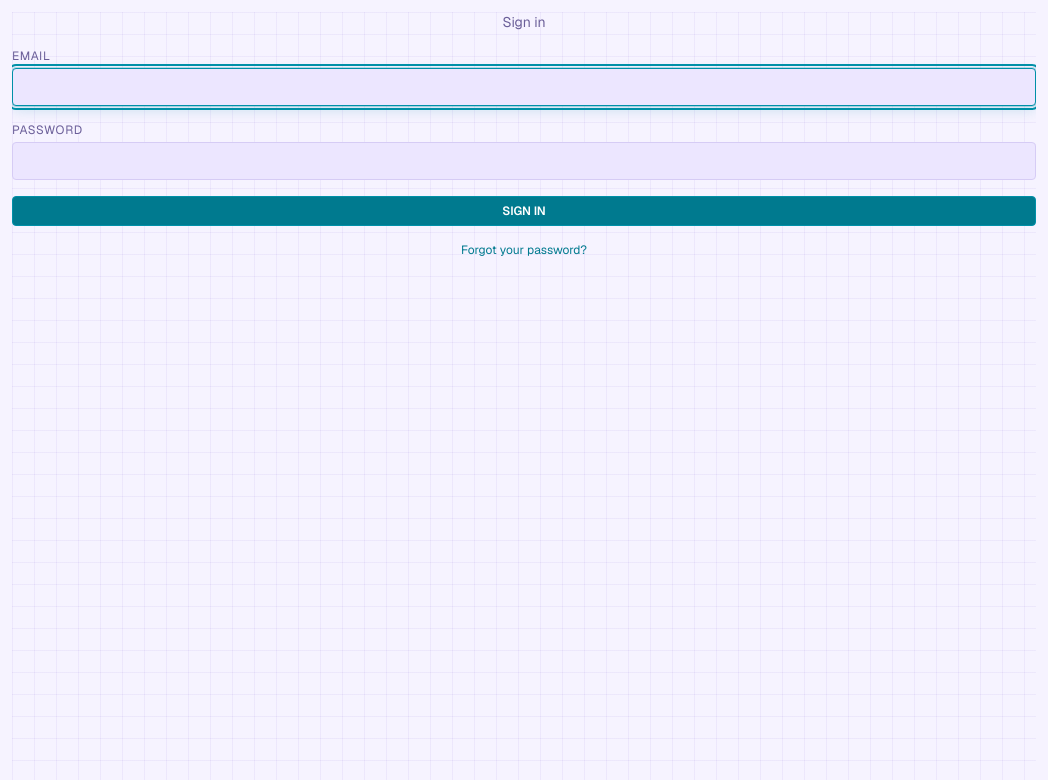
Test: LoginForm › explains wrong credentials
Type "a@x.io" into the field labelled "Email" at (524, 87), box [12, 68, 1036, 106]
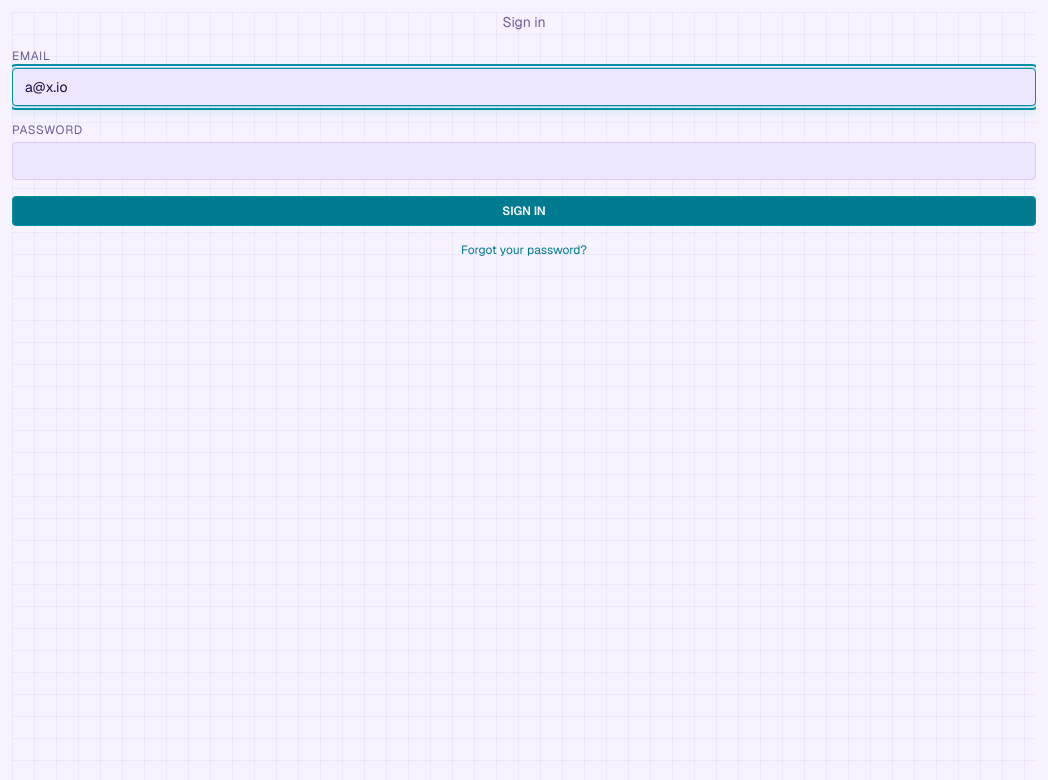
Type "correct-horse-1" into the password field labelled "Password" at (524, 161), box [12, 142, 1036, 180]
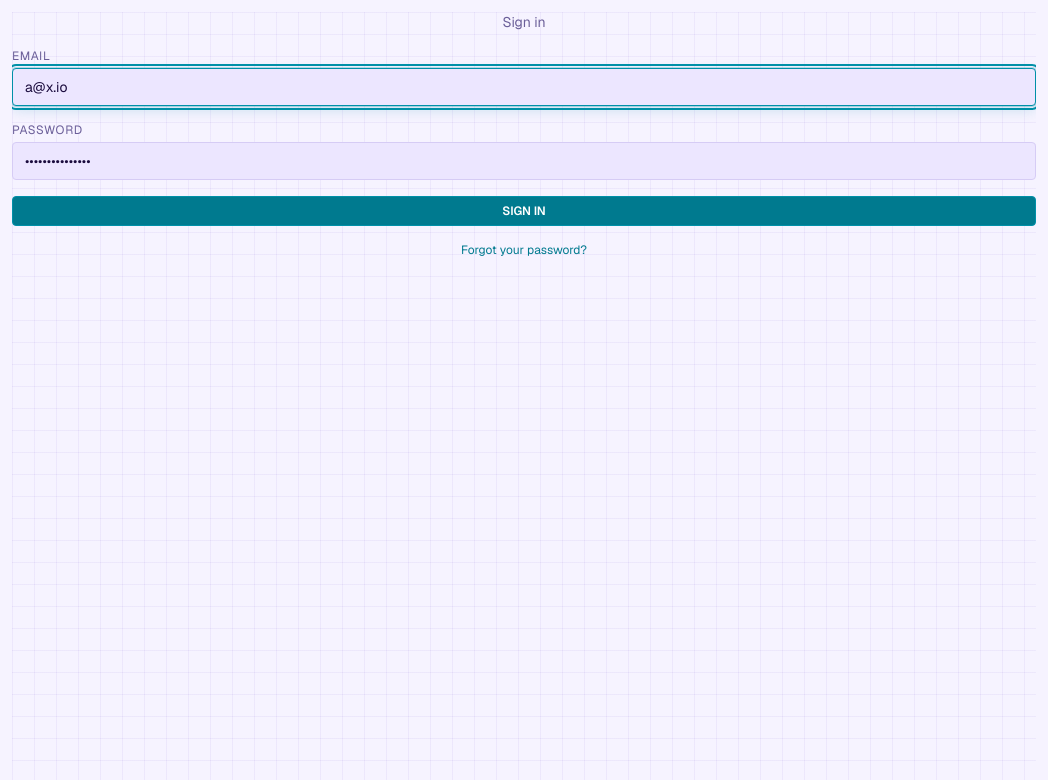
Click the button "Sign in" at (524, 211), box [12, 196, 1036, 226]
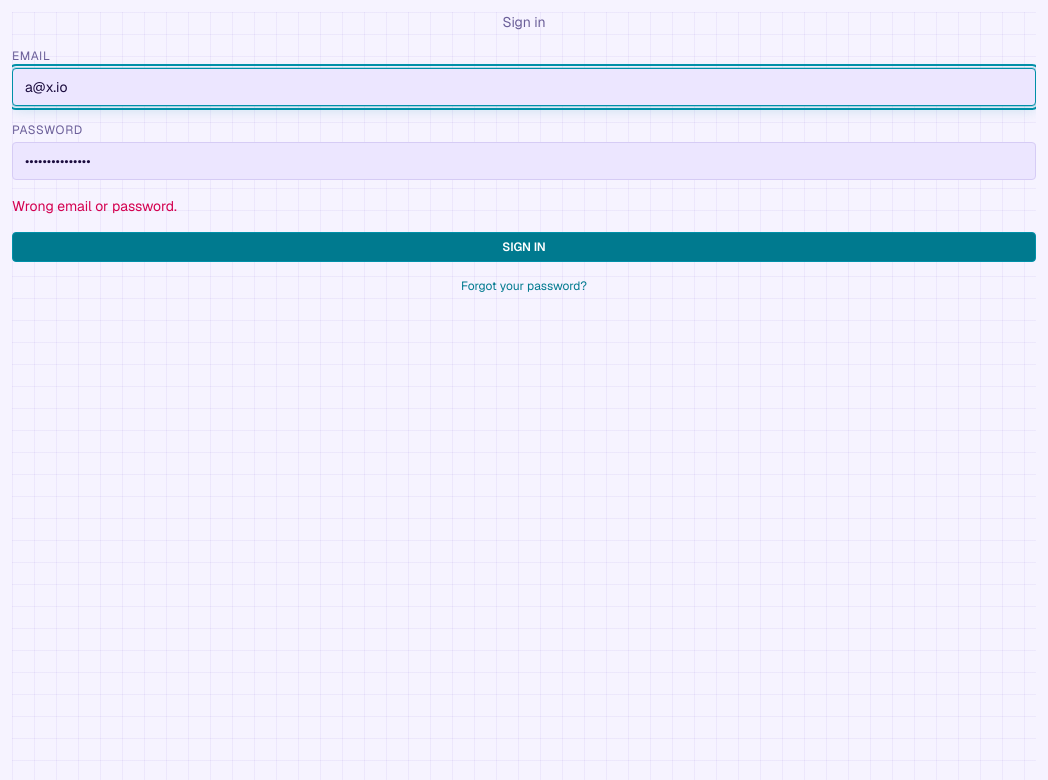
Now the text "Wrong email or password." is shown, box [12, 197, 177, 215]
